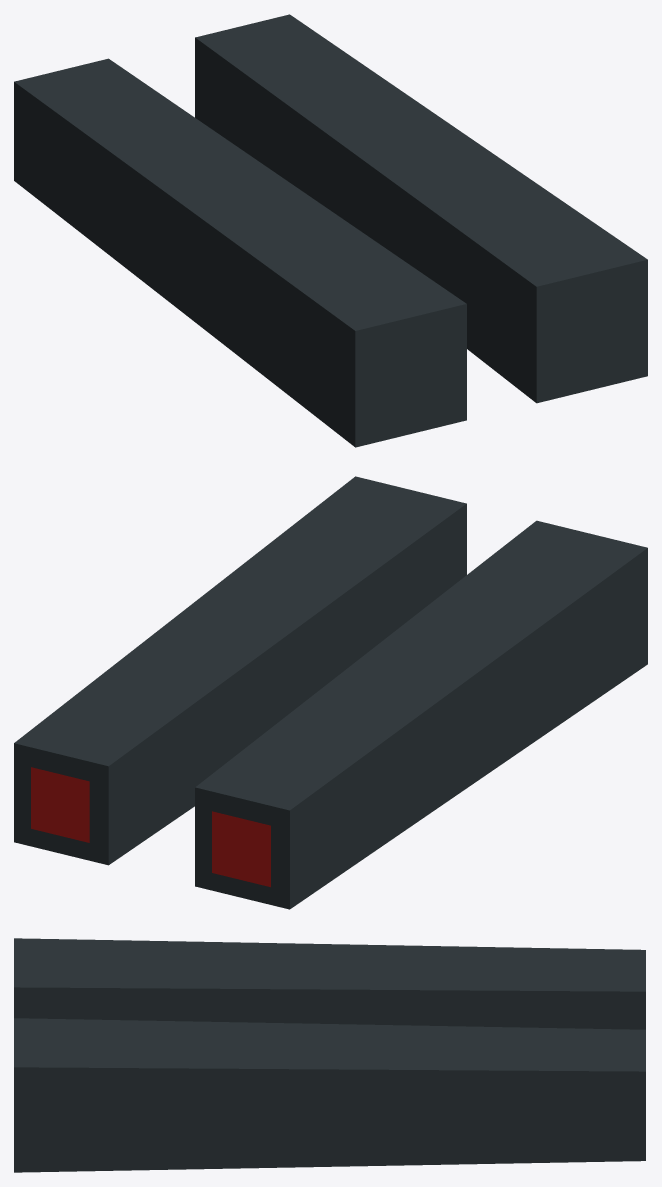
3 views of the same model, one above another, from view 1: azimuth 30°, elevation 25°; view 2: azimuth 150°, elevation 25°; view 3: azimuth 270°, elevation 25° (orthographic). The views are drawn at different scales.
Visible parts, largest first — view 1: mount; view 2: mount; view 3: mount.
Boxes of the visible parts, x1=… form: mount: x1=14, y1=14, x2=647, y2=447; mount: x1=14, y1=476, x2=647, y2=909; mount: x1=14, y1=938, x2=645, y2=1172.
Size of the model in its own units: 4.83 by 1.84 by 10.03.
